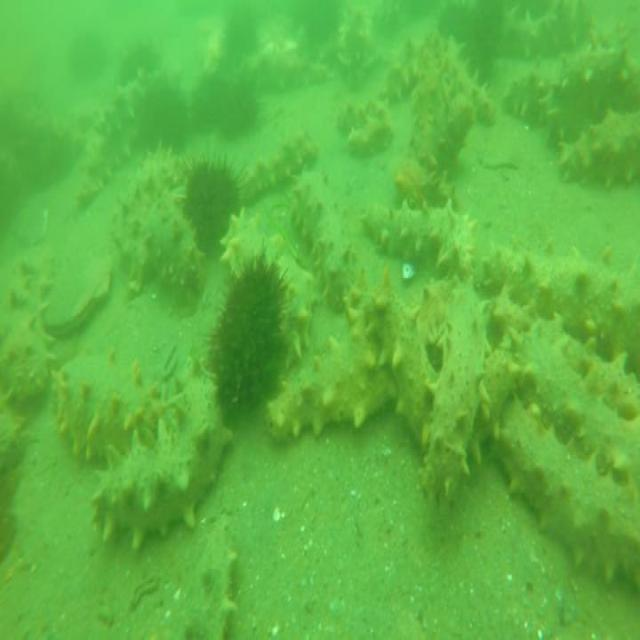echinus: (204, 256, 290, 417), (186, 153, 241, 256), (138, 79, 189, 163), (184, 62, 229, 136), (218, 71, 258, 145), (218, 11, 260, 76), (116, 35, 156, 88)
holothurian: (495, 395, 640, 599), (91, 346, 224, 544), (514, 324, 640, 488), (266, 302, 394, 457), (494, 292, 640, 416), (414, 280, 492, 507), (49, 351, 173, 471), (482, 235, 640, 325), (217, 204, 317, 340), (77, 51, 161, 210), (288, 170, 365, 320), (365, 282, 432, 442), (362, 188, 474, 283), (226, 120, 317, 223), (543, 22, 630, 128), (143, 177, 204, 311), (179, 515, 240, 640), (557, 107, 640, 193), (438, 23, 500, 132), (111, 152, 191, 232), (490, 0, 583, 68), (0, 308, 52, 422), (234, 35, 328, 96), (503, 65, 557, 134), (335, 0, 375, 76), (396, 160, 456, 210), (384, 38, 428, 103), (414, 98, 446, 171), (344, 115, 394, 158), (335, 96, 390, 132)
scallop: (29, 248, 112, 335)
